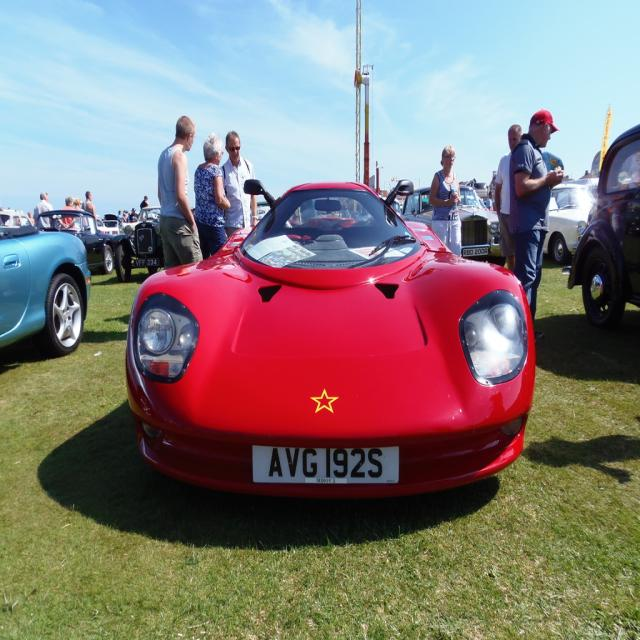car: (110, 173, 537, 510)
